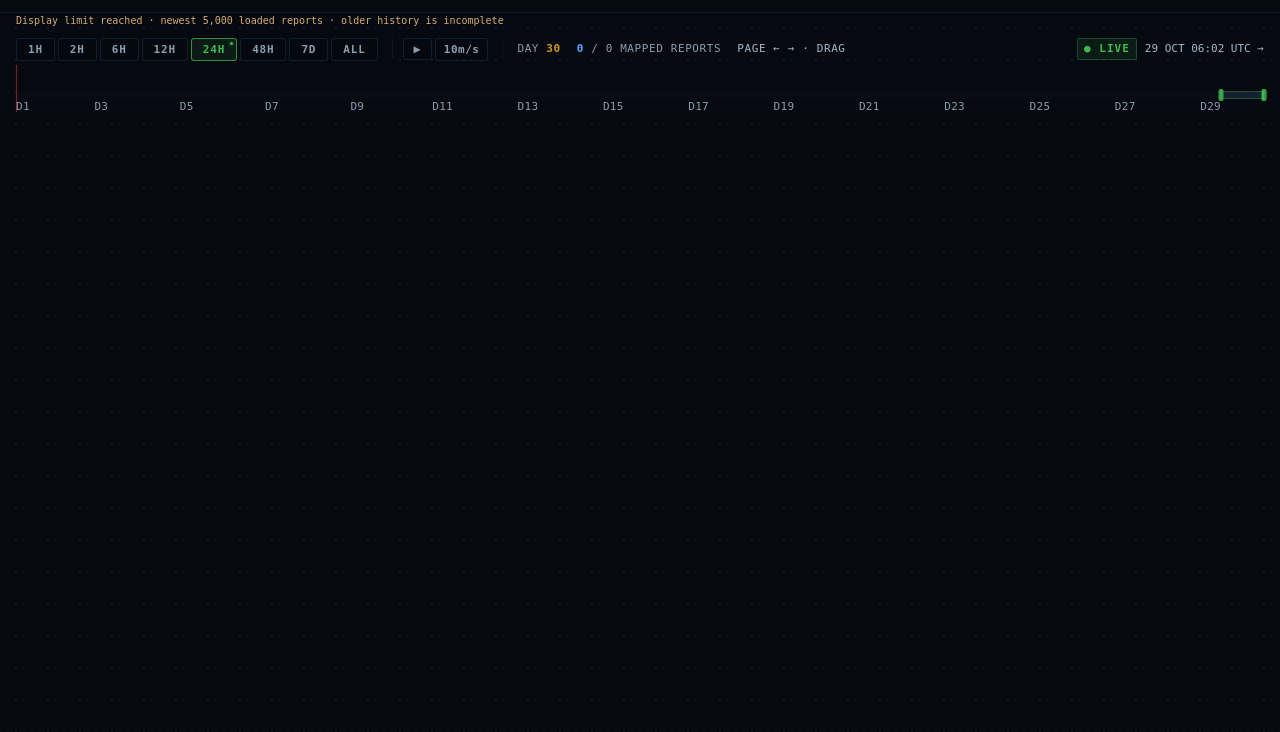
Test: report timeline state › discloses capped coverage and uses the server-configured history origin
Expected: the message shows "5,000", [16, 15, 504, 26]
Expected: the message shows "incomplete", [16, 15, 504, 26]
Click the button "ALL" at (354, 49), box [331, 38, 378, 60]
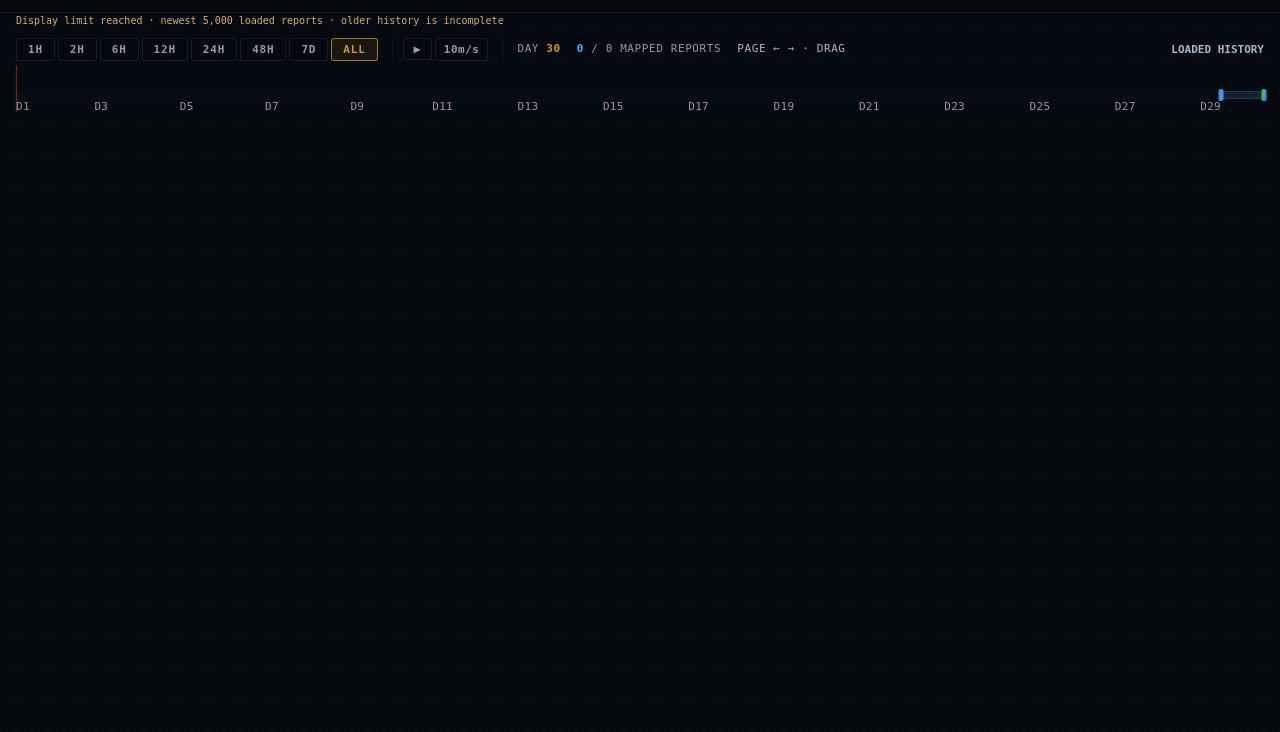
Now the text "LOADED HISTORY" is shown, box [1171, 43, 1264, 56]
